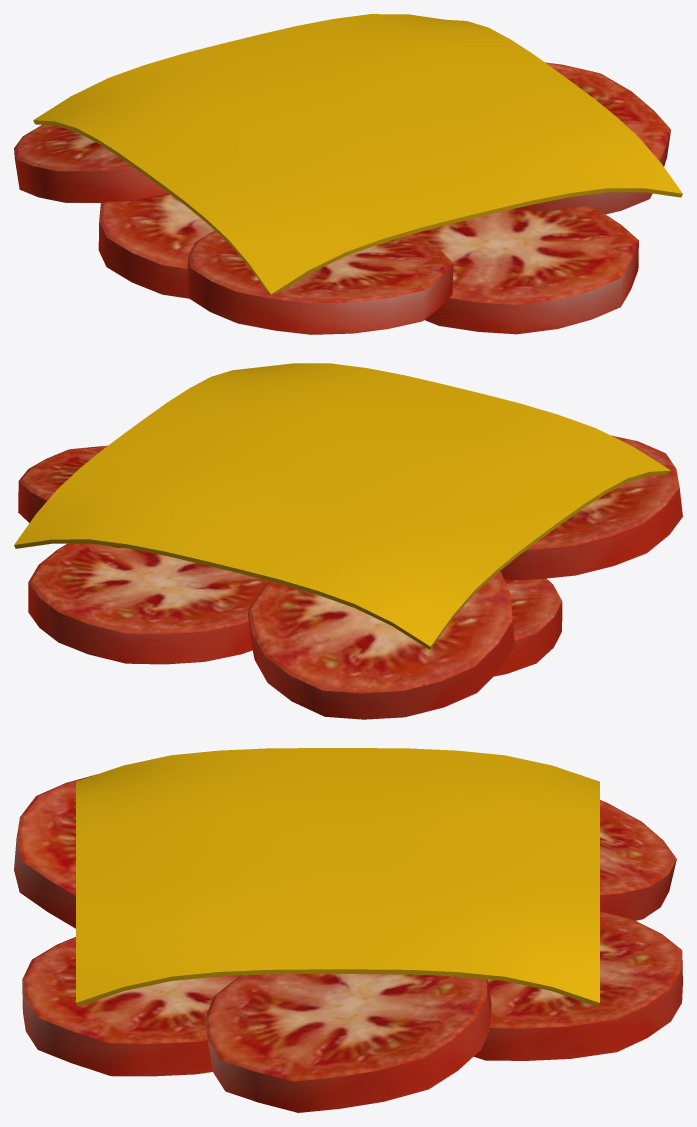
The model's file is cheese-tomato.glb.
3 renders of one model, top to bottom at view 1: azimuth 30°, elevation 25°; view 2: azimuth 150°, elevation 25°; view 3: azimuth 270°, elevation 25°, orthographic. The views are drawn at different scales.
Visible parts, largest first — view 1: cheese, pCylinder19_9; view 2: cheese, pCylinder19_9; view 3: cheese, pCylinder19_9.
Boxes of the visible parts, x1,y1,x2,y2 form: cheese: [33, 14, 682, 294]; pCylinder19_9: [14, 62, 670, 334]; cheese: [14, 363, 670, 649]; pCylinder19_9: [18, 435, 682, 719]; cheese: [76, 748, 599, 1006]; pCylinder19_9: [14, 774, 682, 1112].
Size of the model in its own units: 0.993 by 0.2203 by 0.9781.
3 materials, 2 textured.
